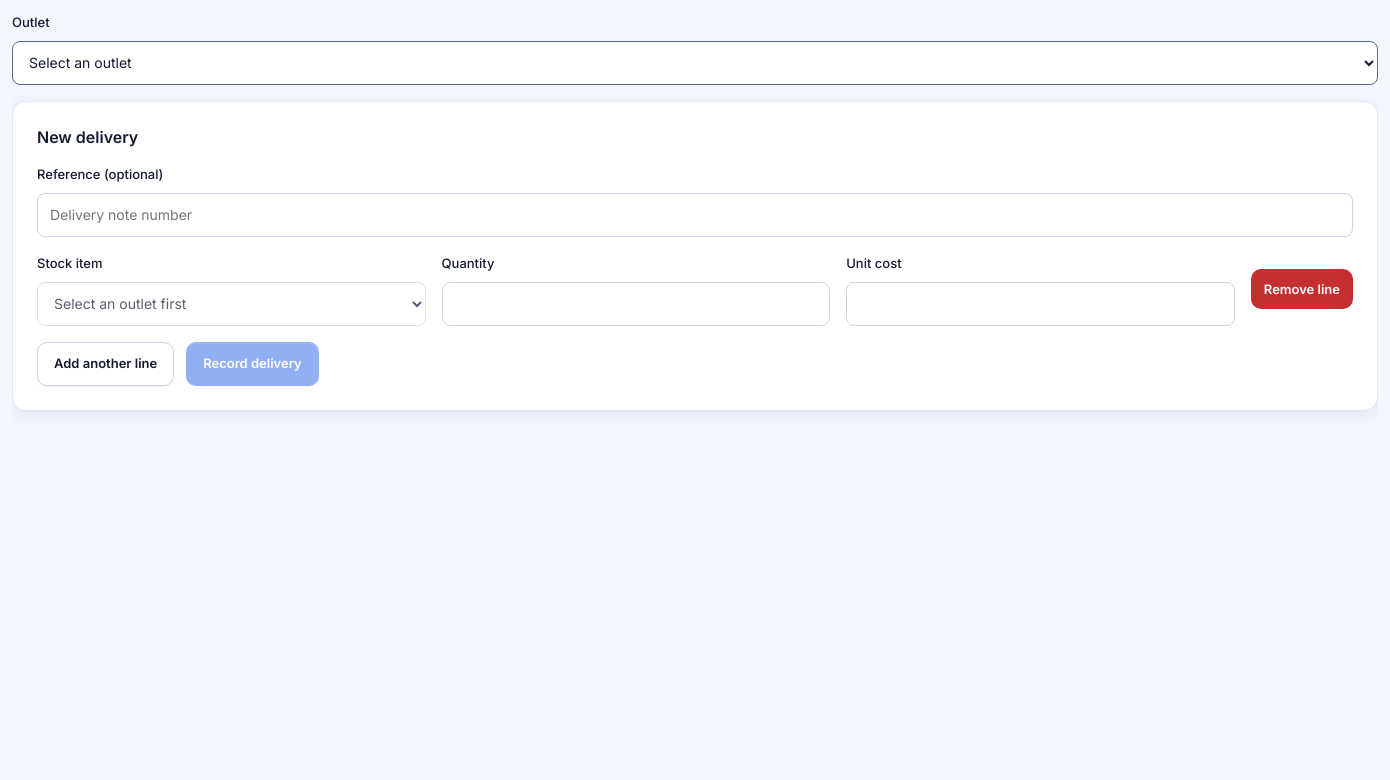
<StockGoodsReceivedTab> › gap closure: the form no longer hides itself until an outlet is picked › picking an outlet enables the Stock item select and loads its real recent deliveries
Select "Main Bar" in the dropdown labelled "Outlet": (695, 63) [12,41,1378,85]
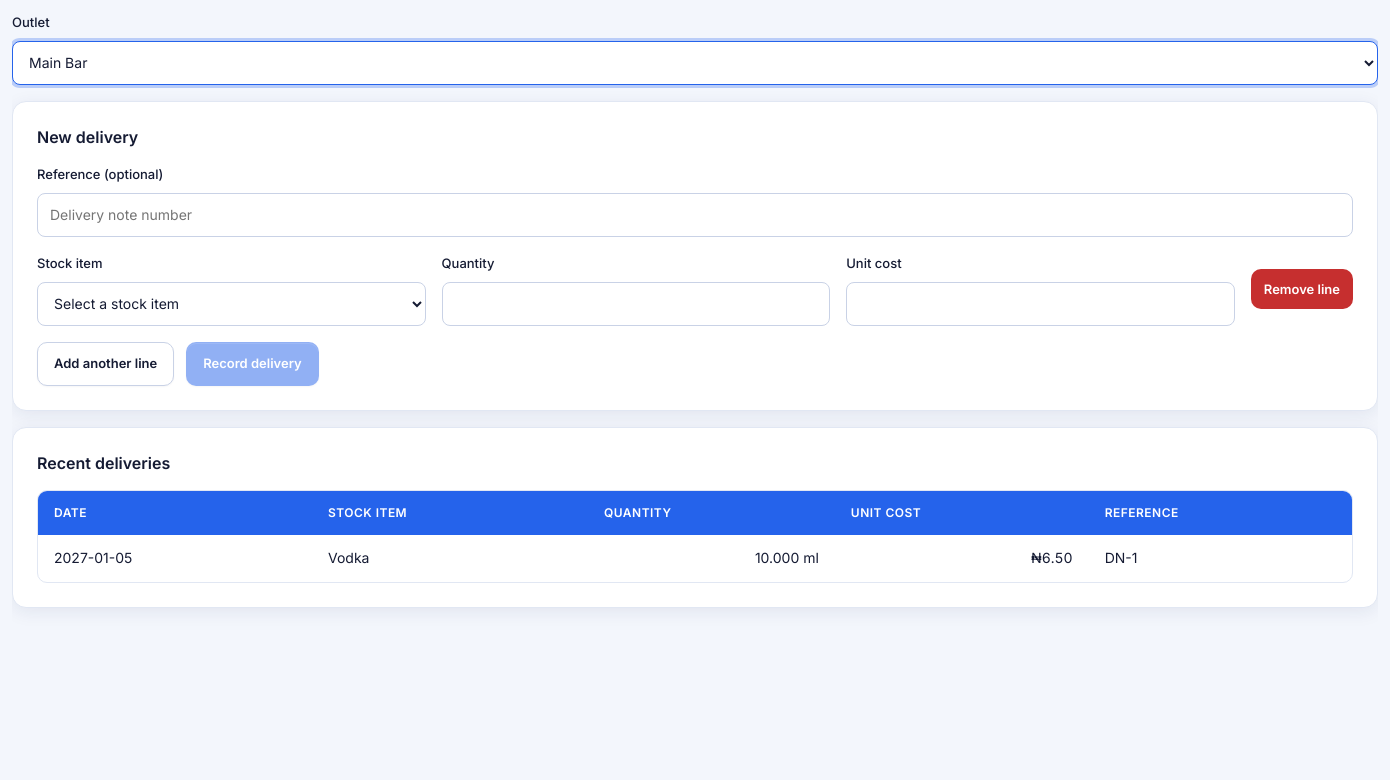
Result: the dropdown labelled "Stock item" is enabled at [37,282,426,326]
Result: the heading "Recent deliveries" is shown at [37,453,170,473]
Result: the text "Vodka" is shown at [312,535,588,582]
